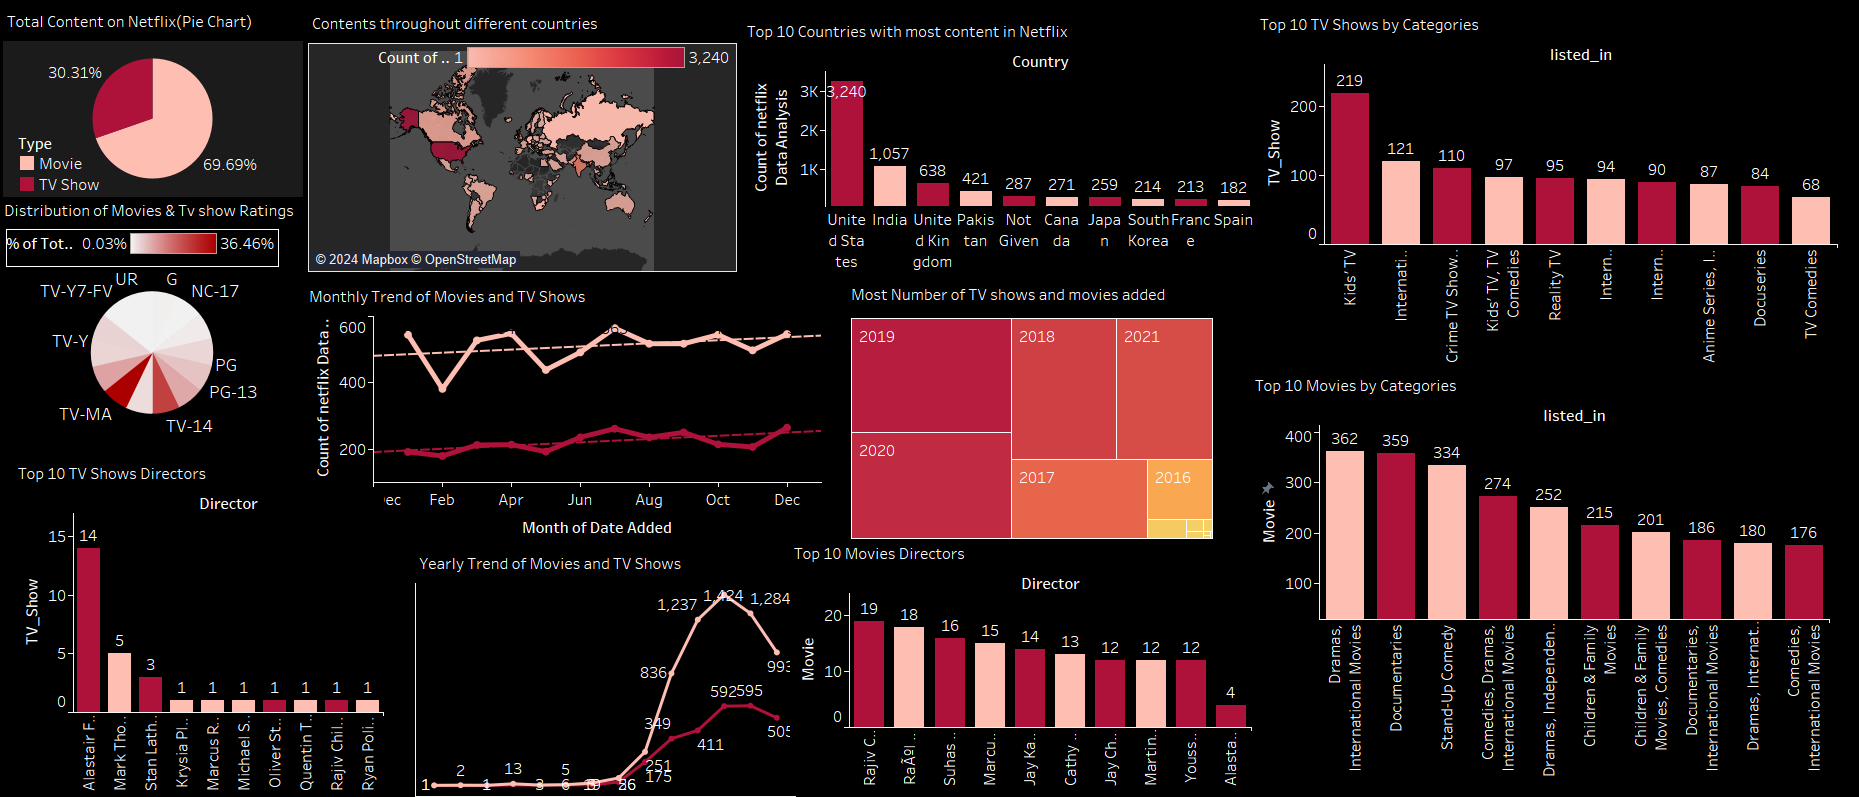

Layout of this report page (visuals, bound fields, positions):
{"tool":"tableau","page":{"name":"Netflix Dashboard","canvas":[1000,1000],"units":"permille","ordinal":0},"visuals":[{"type":"worksheet","title":"Total Content on Netflix(Pie Chart)","mark":"Pie","box":[1.9,5.9,160.9,239.7]},{"type":"worksheet","title":"Count of Netflix Movies and TV shows in each Countries","mark":"Multipolygon","box":[165.7,8.8,230.8,332.5]},{"type":"worksheet","title":"Top-10 TV Shows by Categories","mark":"Automatic","rows":["Calculation_189432697293598721"],"cols":["listed_in"],"box":[675.6,10,312.5,446.7]},{"type":"worksheet","title":"Top-10 countries with most content in Netflix","mark":"Bar","rows":["netflix1_75BFD1F492064CC48A13B92ACE3B52FD"],"cols":["country"],"box":[399.7,18.8,275.4,335]},{"type":"legend","title":"Count of Netflix Movies and TV shows in each Countries","param":"[federated.0awd8mr10sgbfs17n1ygc16v4u2m].[__tableau_internal_object_id__].[cnt:n","box":[203.3,54,191.5,42.7]},{"type":"legend","title":"Total Content on Netflix(Pie Chart)","param":"[federated.0awd8mr10sgbfs17n1ygc16v4u2m].[none:type:nk]","box":[9.2,164.5,86.3,75.2]},{"type":"worksheet","title":"Distribution of Movies and Tv Shows ratings","mark":"Pie","box":[0,243.2,163.7,352.5]},{"type":"legend","title":"Distribution of Movies and Tv Shows ratings","param":"[federated.0awd8mr10sgbfs17n1ygc16v4u2m].[__tableau_internal_object_id__].[pcto:","box":[3.2,287.9,146.7,47]},{"type":"worksheet","title":"Most Number of TV shows and movies added","mark":"Automatic","box":[455.5,349,215.6,332.6]},{"type":"worksheet","title":"Montly Trend of Movies and TV Shows","mark":"Line","rows":["netflix1_75BFD1F492064CC48A13B92ACE3B52FD"],"cols":["date_added"],"box":[164,351.4,277.4,332.6]},{"type":"worksheet","title":"Top-10 Movies by Categories","mark":"Automatic","rows":["Calculation_189432697289134080"],"cols":["listed_in"],"box":[672.9,463,311.5,514.4]},{"type":"worksheet","title":"Top-10 TV Shows Directors","mark":"Automatic","rows":["Calculation_189432697293598721"],"cols":["director"],"box":[7.4,573.4,198.5,420.7]},{"type":"worksheet","title":"Top-10 Movies Directors","mark":"Bar","rows":["Calculation_189432697289134080"],"cols":["director"],"box":[425,673.8,248,313.7]},{"type":"worksheet","title":"Yearly Trend of Movies and TV Shows","mark":"Automatic","rows":["netflix1_75BFD1F492064CC48A13B92ACE3B52FD"],"cols":["date_added"],"box":[223.2,686.3,204.4,312.4]}]}

Visuals, with their boxes on the dashboard's canvas, which has no fixed pixel size, in thousandths of its width and height (x1, y1, x2, y2). These are canvas units, not pixel positions in the 1859x797 screenshot, which may show the page scaled, cropped or inside an application window:
"Total Content on Netflix(Pie Chart)" worksheet (Pie marks): 2/6/163/246
"Count of Netflix Movies and TV shows in each Countries" worksheet (Multipolygon marks): 166/9/396/341
"Top-10 TV Shows by Categories" worksheet: 676/10/988/457
"Top-10 countries with most content in Netflix" worksheet (Bar marks): 400/19/675/354
"Count of Netflix Movies and TV shows in each Countries" legend: 203/54/395/97
"Total Content on Netflix(Pie Chart)" legend: 9/164/96/240
"Distribution of Movies and Tv Shows ratings" worksheet (Pie marks): 0/243/164/596
"Distribution of Movies and Tv Shows ratings" legend: 3/288/150/335
"Most Number of TV shows and movies added" worksheet: 456/349/671/682
"Montly Trend of Movies and TV Shows" worksheet (Line marks): 164/351/441/684
"Top-10 Movies by Categories" worksheet: 673/463/984/977
"Top-10 TV Shows Directors" worksheet: 7/573/206/994
"Top-10 Movies Directors" worksheet (Bar marks): 425/674/673/988
"Yearly Trend of Movies and TV Shows" worksheet: 223/686/428/999
